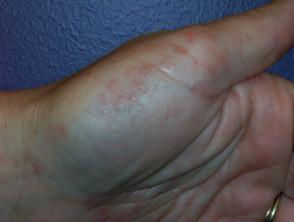Eczema: (78, 197, 115, 220), (254, 27, 282, 56), (216, 160, 263, 177), (117, 62, 159, 81), (143, 131, 179, 153), (133, 85, 162, 110), (209, 46, 234, 74), (129, 195, 155, 220), (191, 27, 226, 45), (186, 57, 223, 74), (92, 92, 118, 116), (110, 88, 138, 110), (19, 152, 48, 173), (15, 176, 44, 196), (262, 104, 291, 124), (251, 134, 269, 166), (213, 167, 235, 193), (166, 161, 189, 185), (0, 188, 19, 217), (160, 46, 195, 61), (265, 15, 294, 33), (233, 30, 257, 51), (48, 119, 68, 144), (158, 203, 190, 218), (188, 206, 220, 220), (30, 201, 50, 222), (248, 188, 268, 209), (255, 121, 279, 138), (69, 161, 91, 179), (236, 195, 251, 221), (106, 74, 130, 90), (217, 127, 237, 146), (199, 181, 219, 200), (29, 159, 50, 177), (213, 201, 238, 216), (105, 209, 138, 220), (188, 112, 206, 131), (182, 83, 202, 100), (181, 192, 199, 210), (26, 122, 43, 140), (179, 35, 202, 48), (0, 156, 14, 177), (141, 185, 162, 199), (255, 76, 268, 97), (188, 147, 204, 164), (0, 119, 16, 135), (161, 105, 176, 122), (230, 87, 246, 101), (88, 71, 100, 80)
